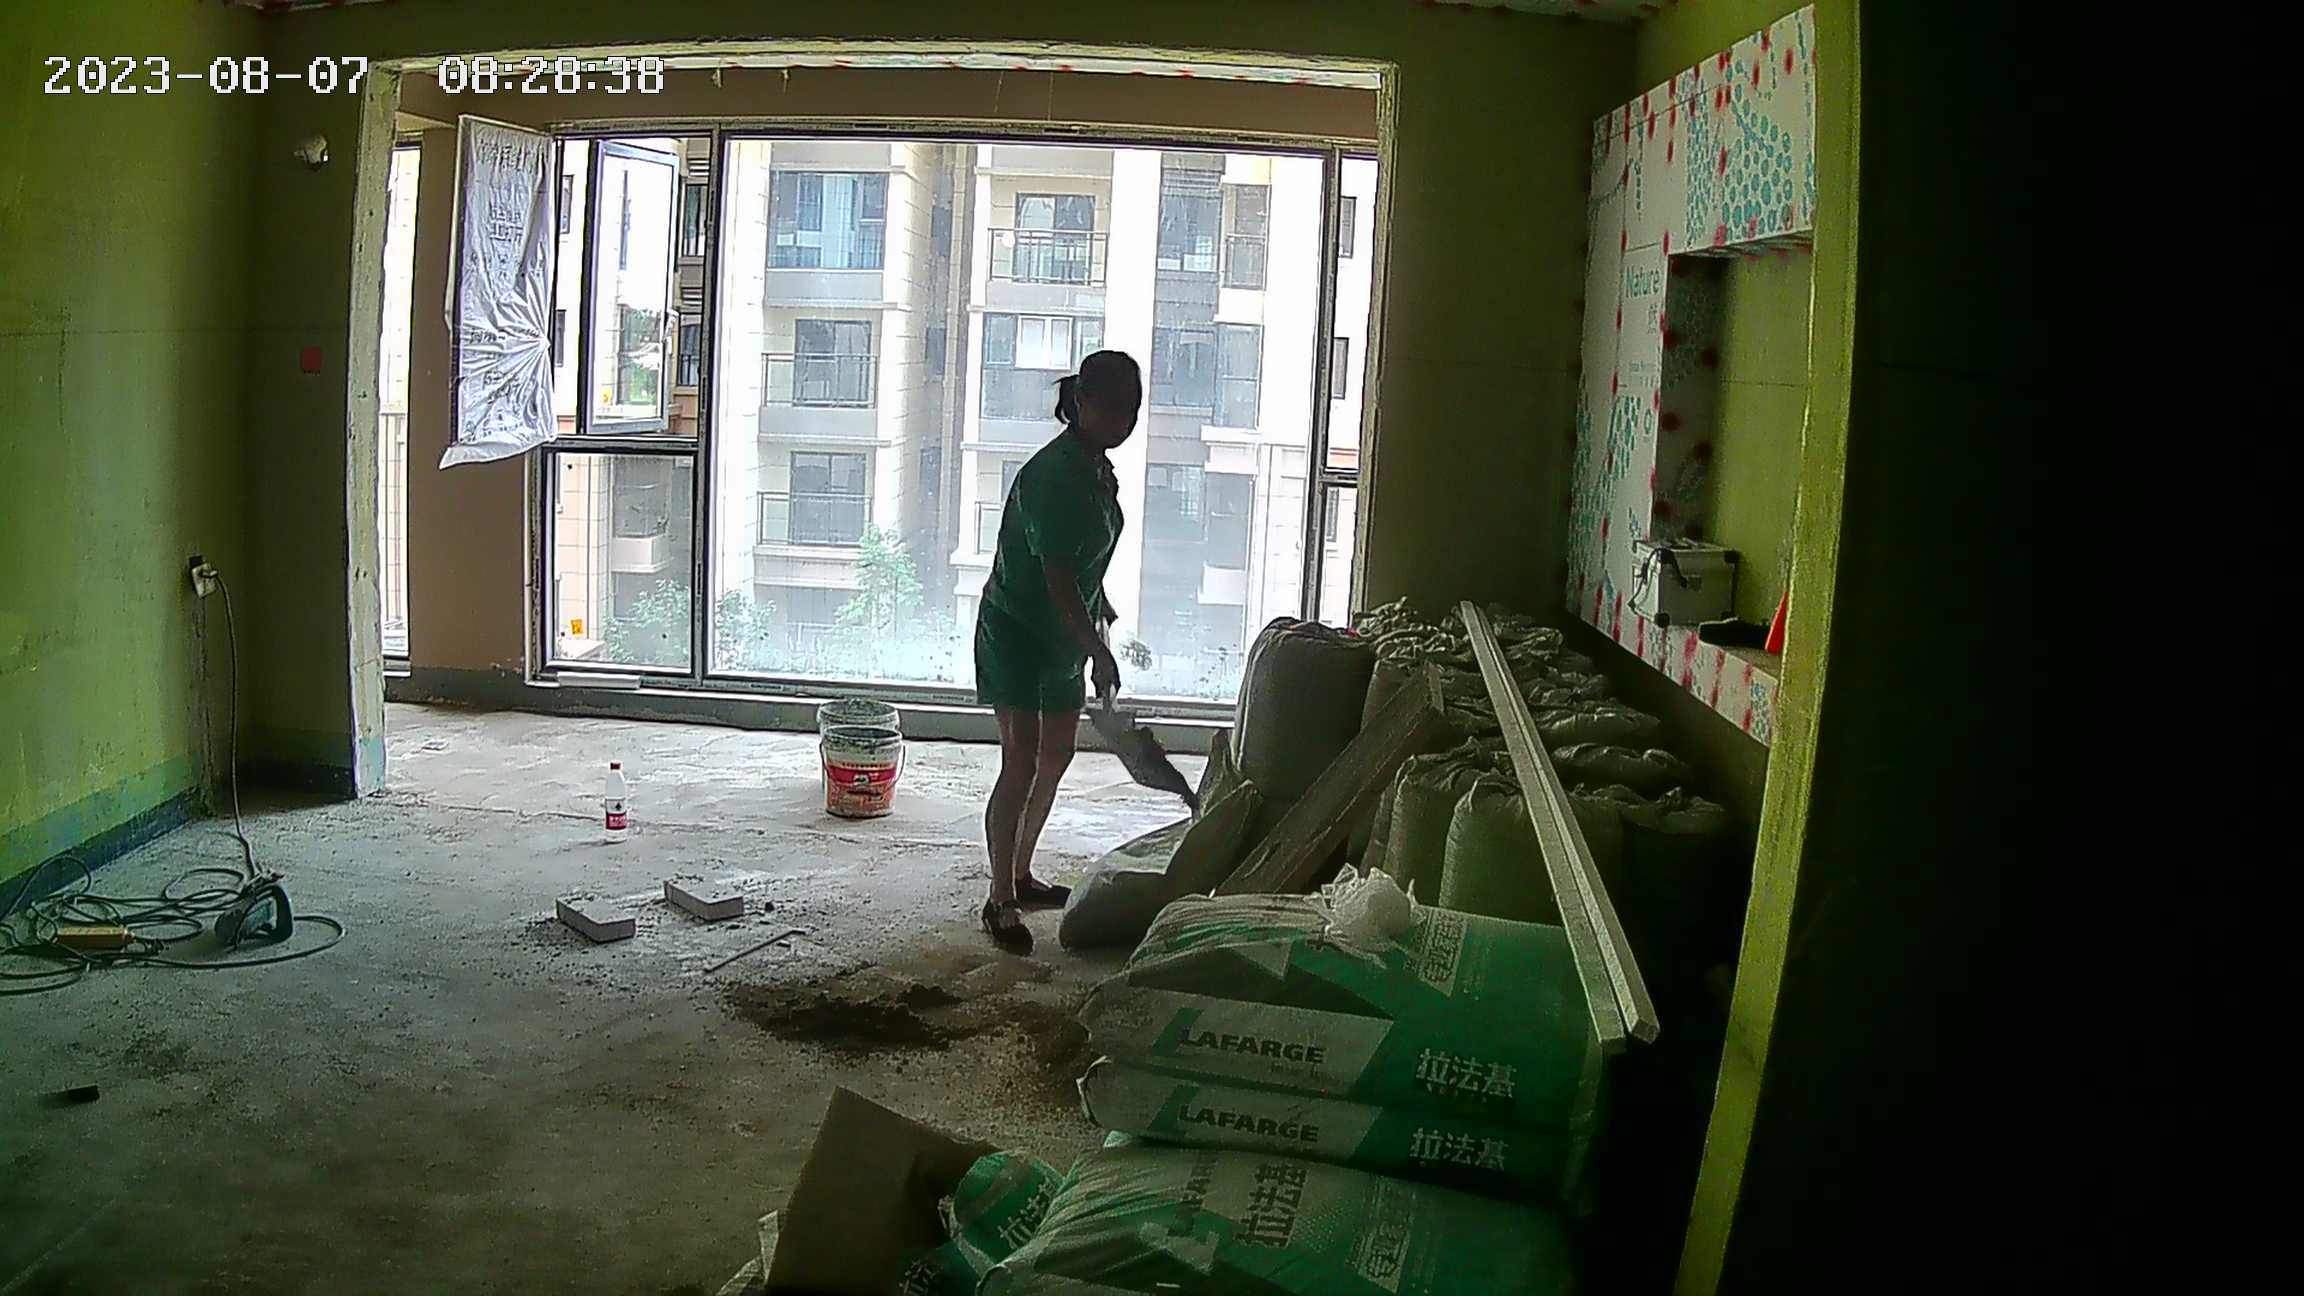people: (957, 346, 1146, 937)
window: (457, 94, 1357, 730)
